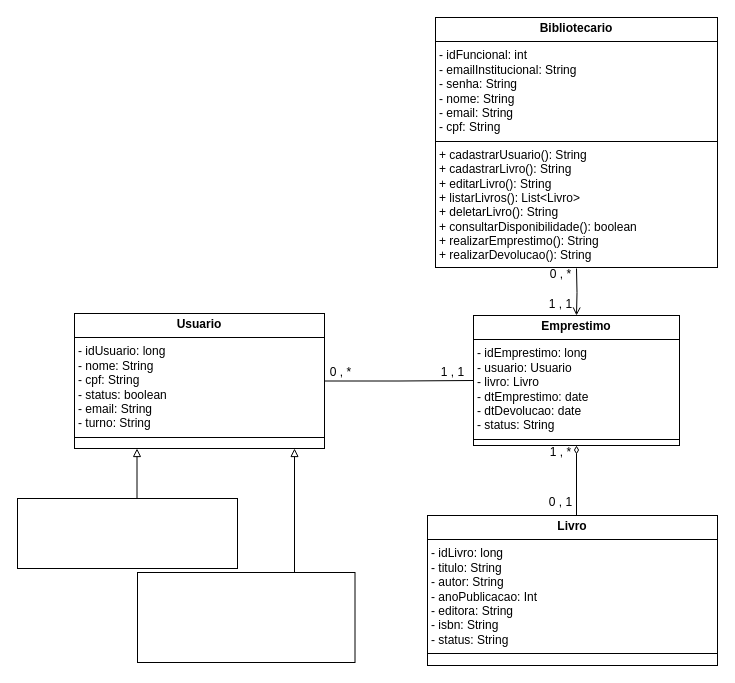
This 735x683 diagram has some shape labels left out. The shapes that lost their labels are listed below. From the top down, each one's box as (x1, y1, x2, y2) in pixels, then its label:
(16, 498, 238, 568): Estudante - curso: String - matricula: String
(136, 572, 355, 662): Professor - curso: String - dtAdmissao: date
